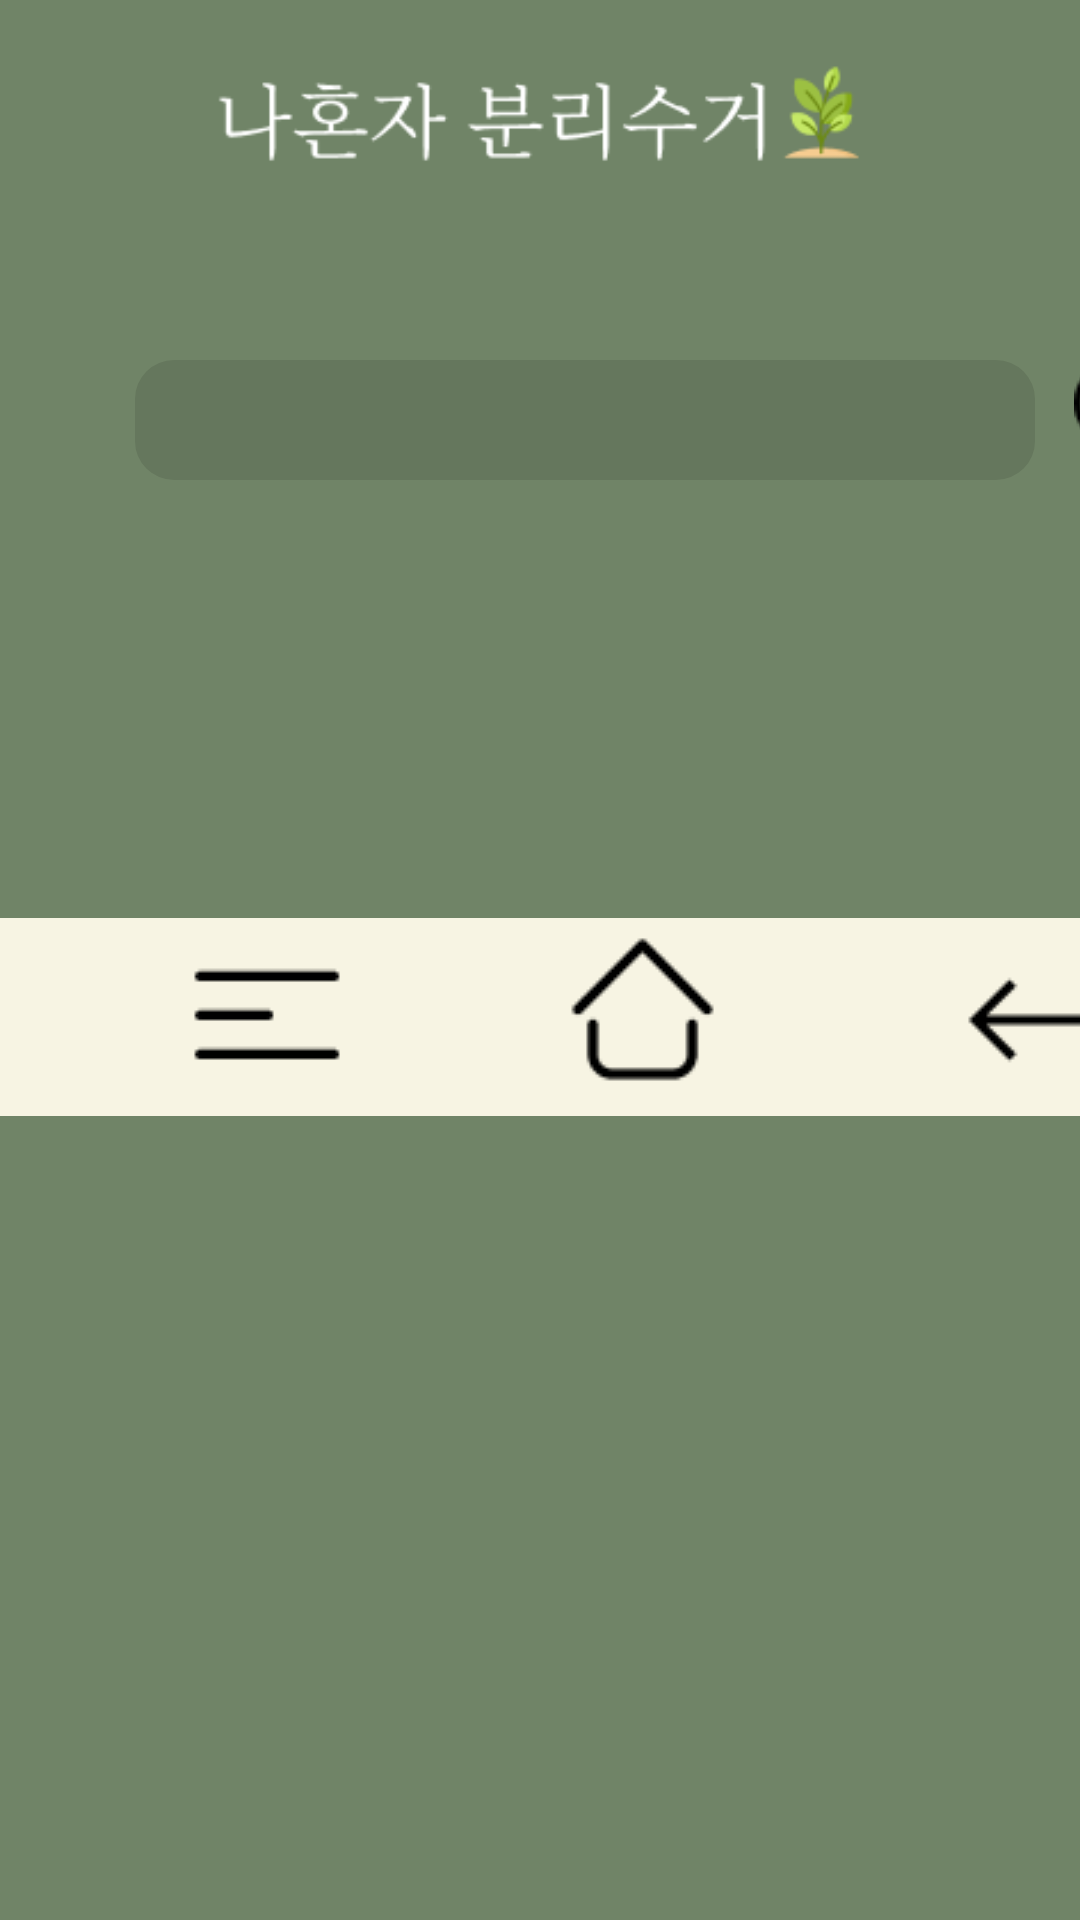

Where icons sit on this 1080×1920 app screen, as rect(x1, y1, x2, y2):
home: rect(571, 938, 714, 1081)
menu: rect(194, 969, 340, 1060)
